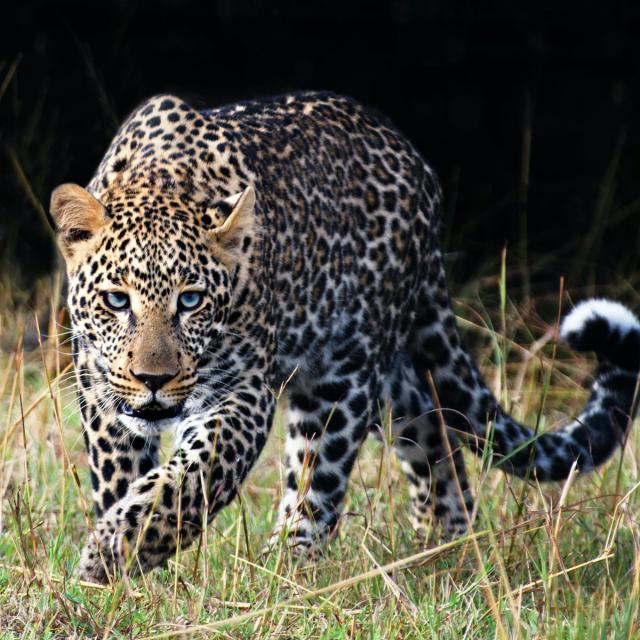Leopard: (55, 89, 640, 571)
